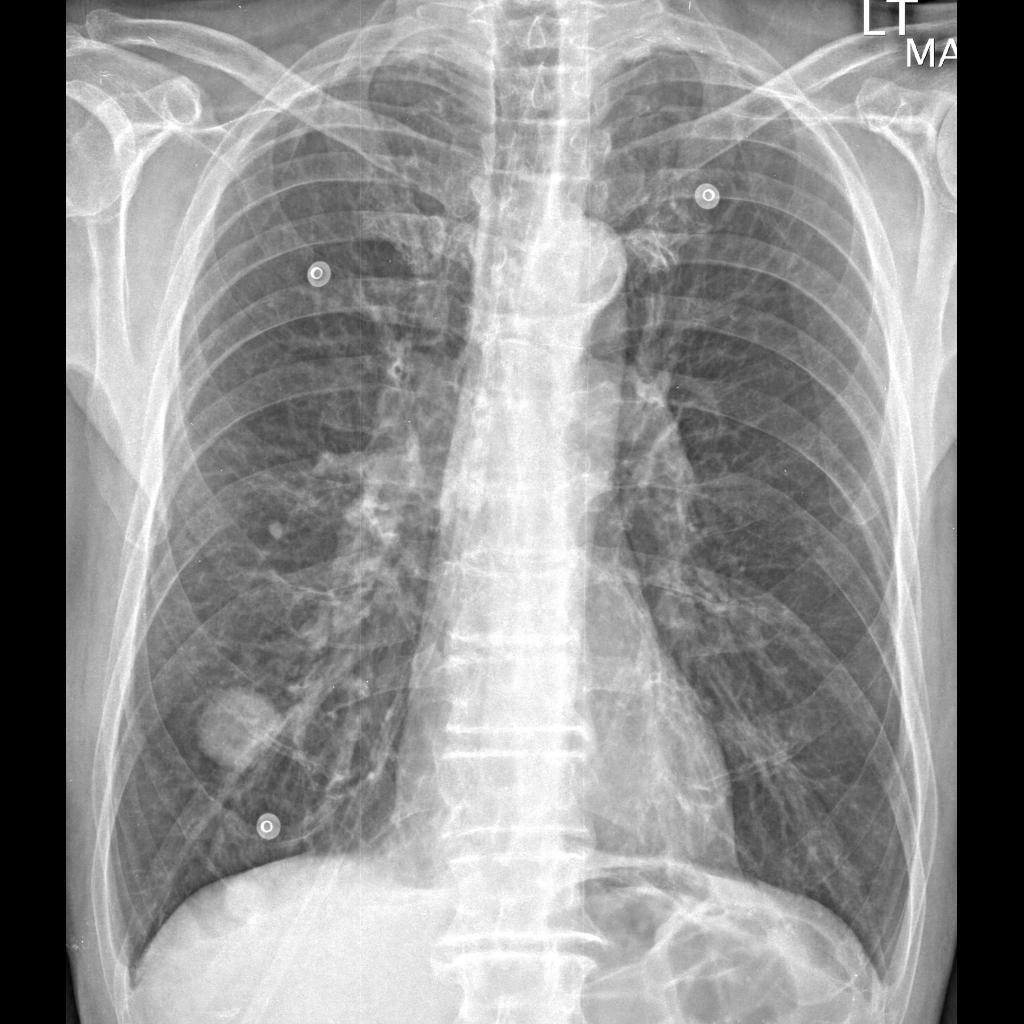Nodule: (191, 671, 296, 789), (254, 516, 296, 551)
